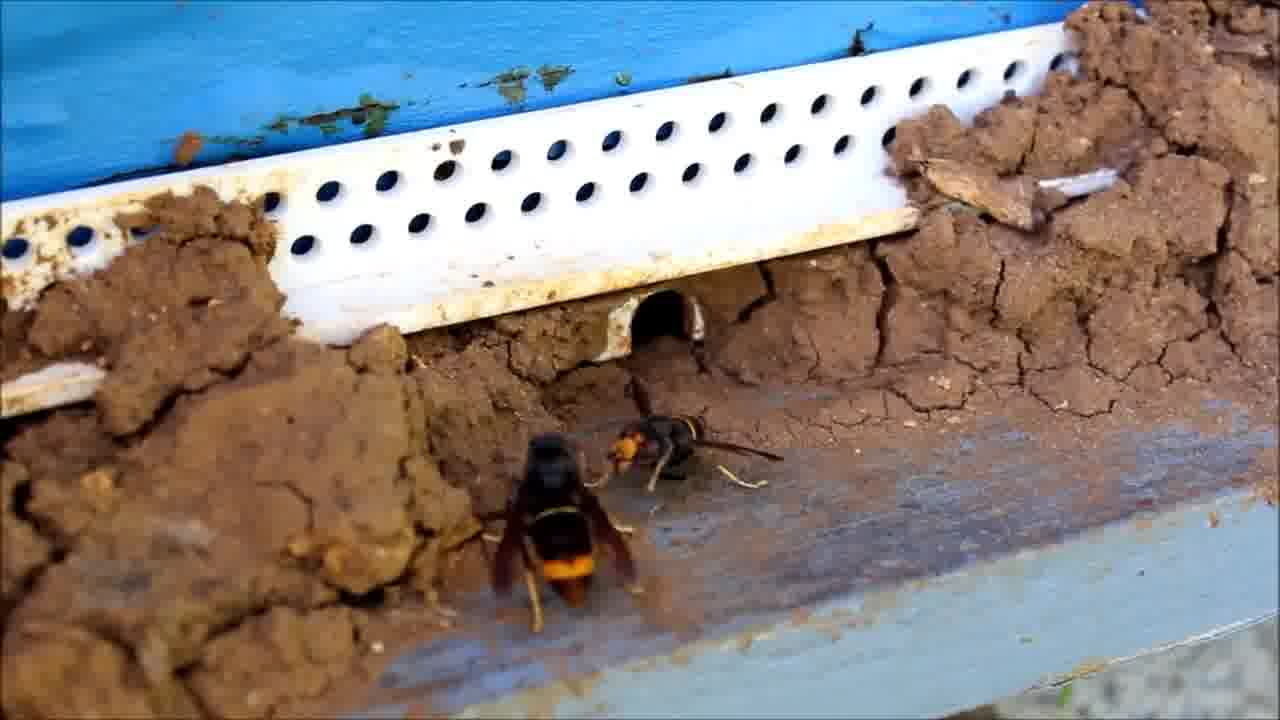hornet: (500, 410, 630, 619), (618, 392, 745, 481)
